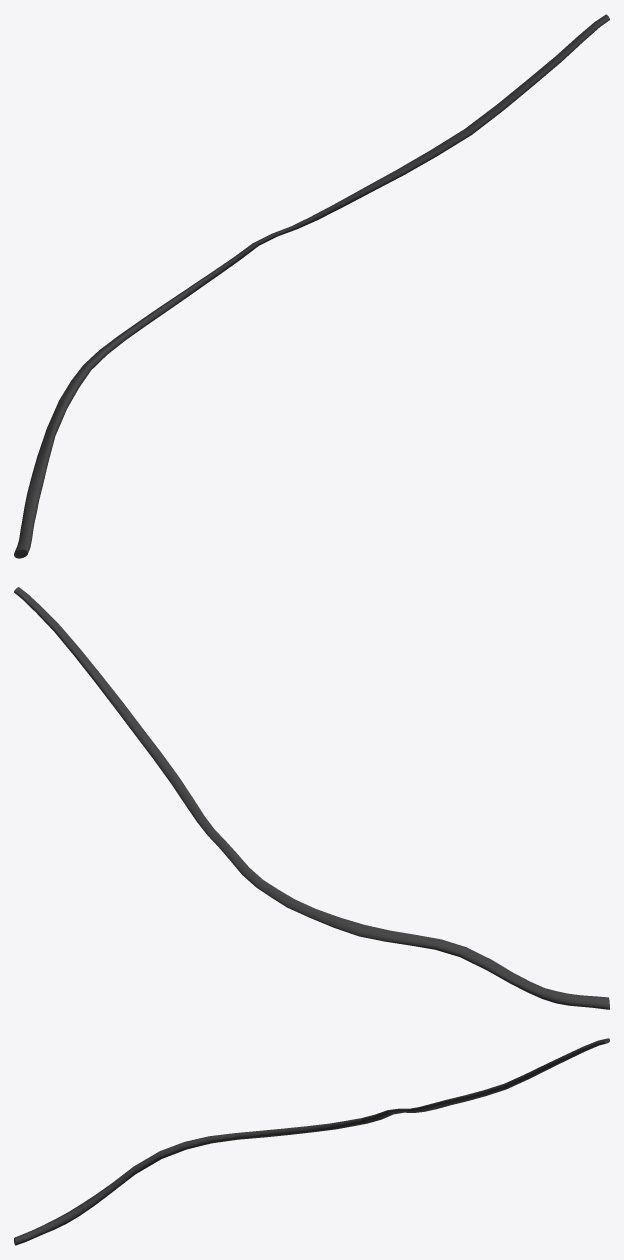
The model's file is N_7_facial_major_petrosal.glb.
3 views of the same model, one above another, from view 1: azimuth 30°, elevation 25°; view 2: azimuth 150°, elevation 25°; view 3: azimuth 330°, elevation 25° (orthographic). The views are drawn at different scales.
Parts seen in each view (by area): view 1: N_7_facial_major_petrosal; view 2: N_7_facial_major_petrosal; view 3: N_7_facial_major_petrosal.
Part boxes in pixels (x1,y1,x2,y2): N_7_facial_major_petrosal: [14, 14, 609, 558]; N_7_facial_major_petrosal: [14, 587, 609, 1009]; N_7_facial_major_petrosal: [14, 1038, 609, 1245].
Size of the model in its own units: 0.0598 by 0.0321 by 0.0172.
1 material, 1 textured.
